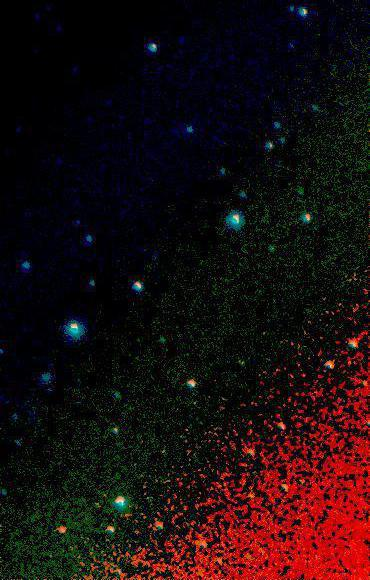star: (52, 515, 82, 545)
